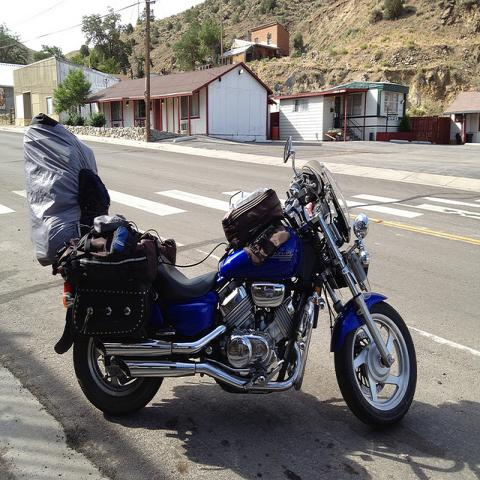motorcycle: (53, 135, 418, 429)
